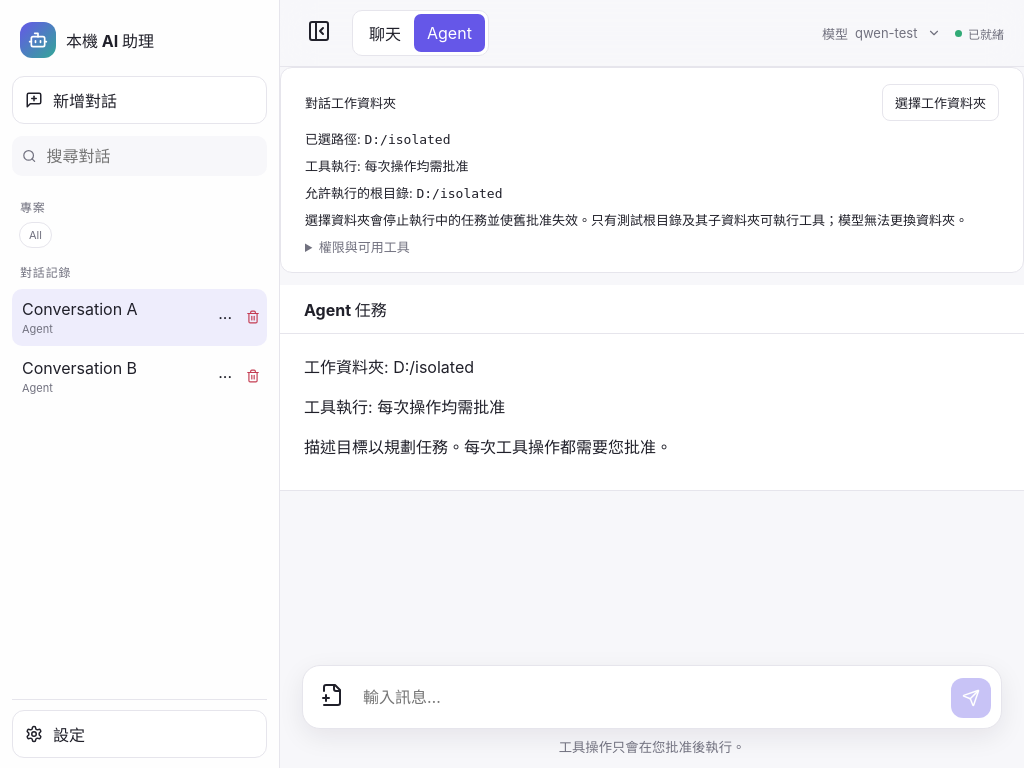
modern desktop › ignores a late read_history response after another conversation is selected
Step 1. Click the button "Conversation B Agent" → (112, 376), box [12,348,211,405]
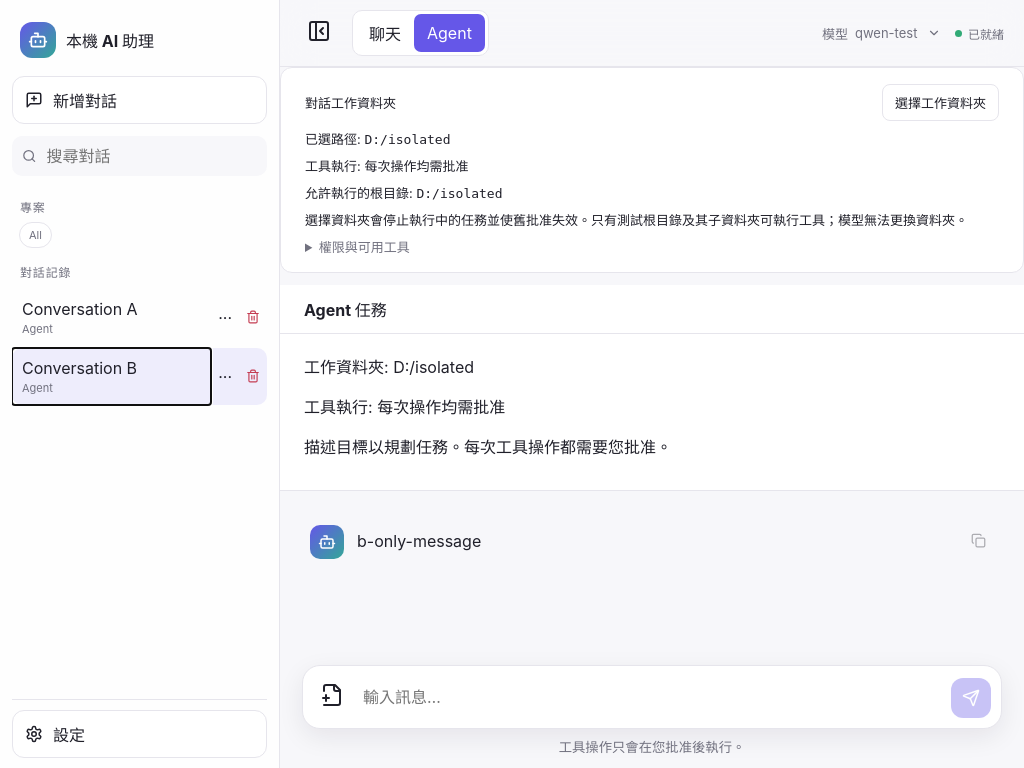
Expected: the text "b-only-message" is shown, [357,531,481,551]
